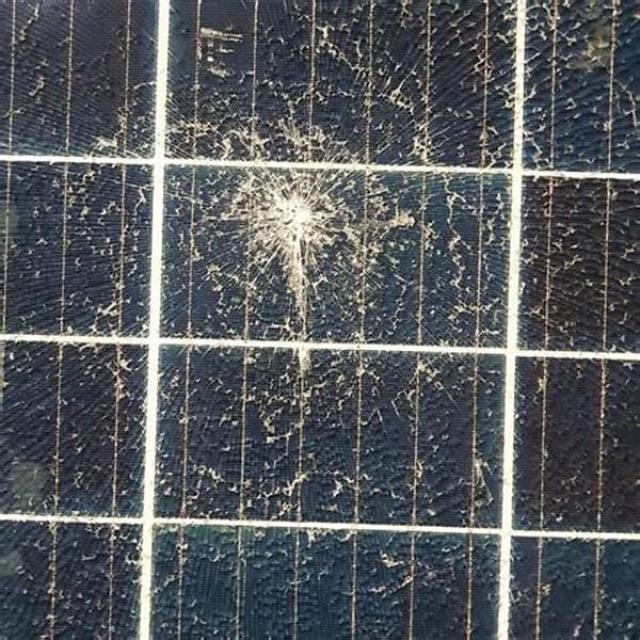physical damage: (120, 103, 495, 442)
